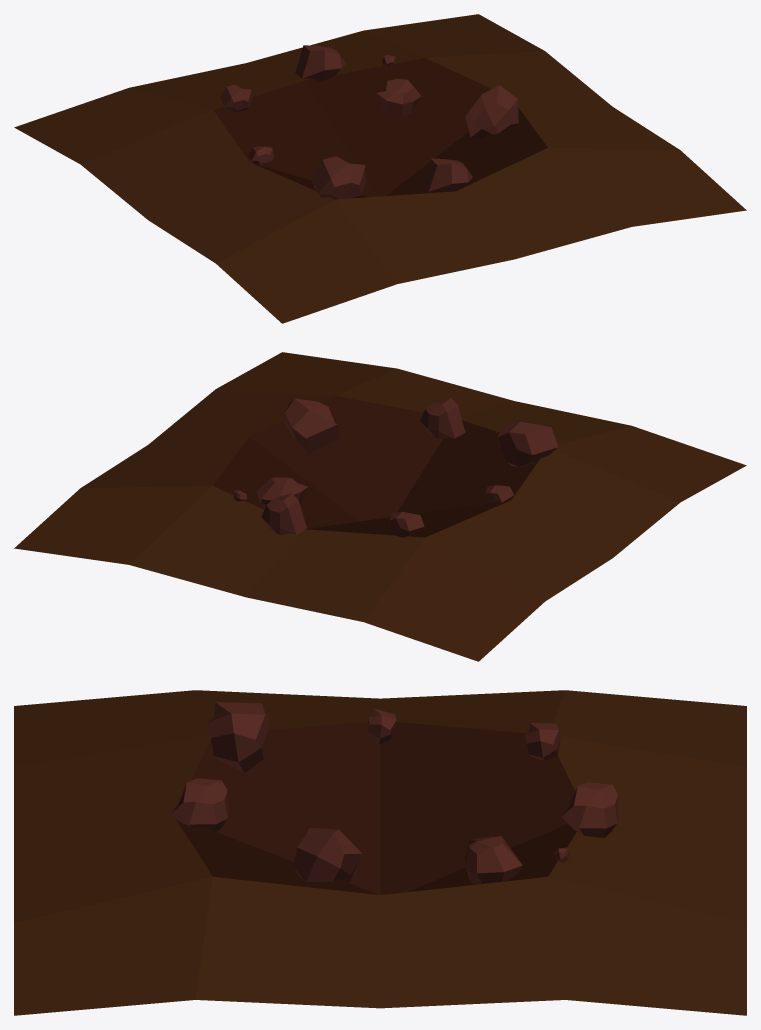
The model's file is TerraArada.fbx.
3 views of the same model, one above another, from view 1: azimuth 30°, elevation 25°; view 2: azimuth 150°, elevation 25°; view 3: azimuth 270°, elevation 25° (orthographic). The views are drawn at different scales.
Visible parts, largest first — view 1: TerraArada; view 2: TerraArada; view 3: TerraArada.
Part boxes in pixels (box(x1,y1,x2,y2)): TerraArada: box(14, 14, 746, 323); TerraArada: box(14, 352, 746, 661); TerraArada: box(14, 690, 746, 1015).
Bounding box in the file's own units: 59.81 × 12.62 × 59.81.
